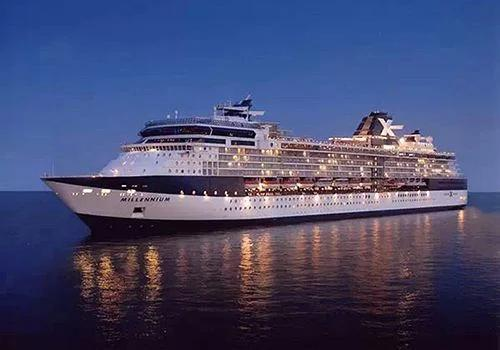youlun: (35, 91, 470, 240)
